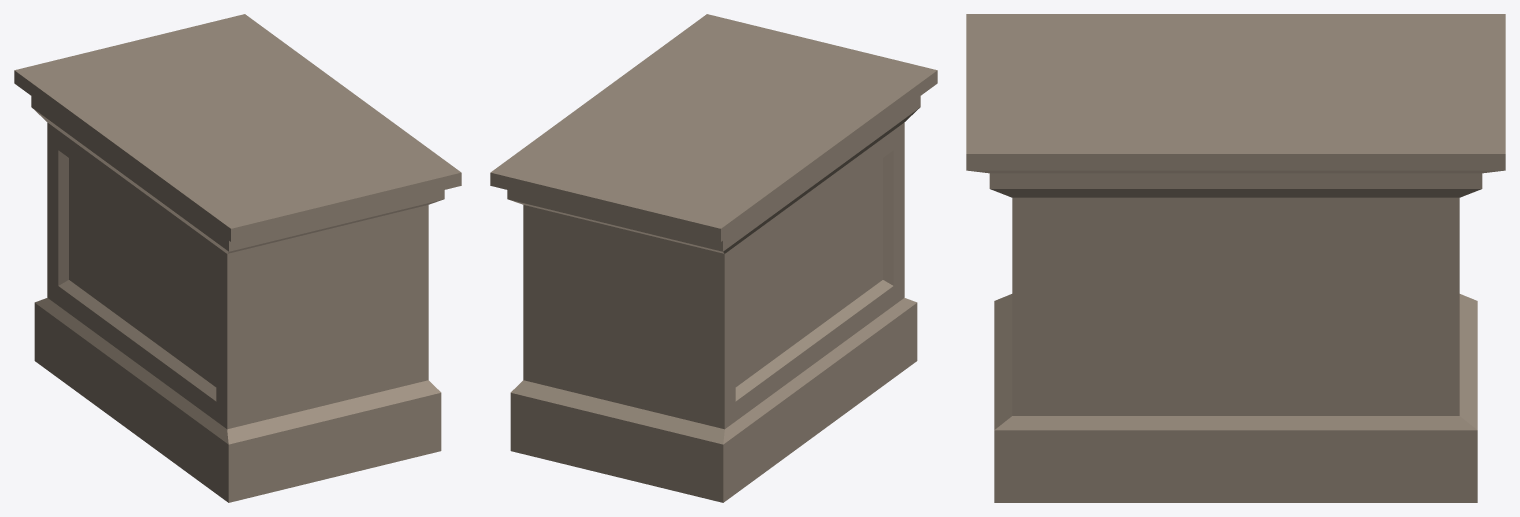
Rendered from BC_InsideFrame_C.fbx.
3 views of the same model, side by side, from view 1: azimuth 30°, elevation 25°; view 2: azimuth 150°, elevation 25°; view 3: azimuth 270°, elevation 25° (orthographic). The views are drawn at different scales.
Visible parts, largest first — view 1: BC_InsideFrame_C; view 2: BC_InsideFrame_C; view 3: BC_InsideFrame_C.
Part boxes in pixels (left/top/right/bottom): BC_InsideFrame_C: left=14, top=14, right=461, bottom=502; BC_InsideFrame_C: left=490, top=14, right=937, bottom=502; BC_InsideFrame_C: left=966, top=14, right=1505, bottom=502.
Size of the model in its own units: 328 by 387 by 533.
